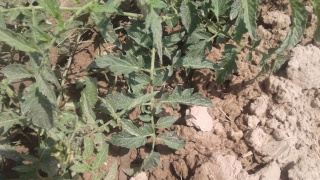tomato plant: (2, 50, 187, 175), (5, 1, 237, 81)
